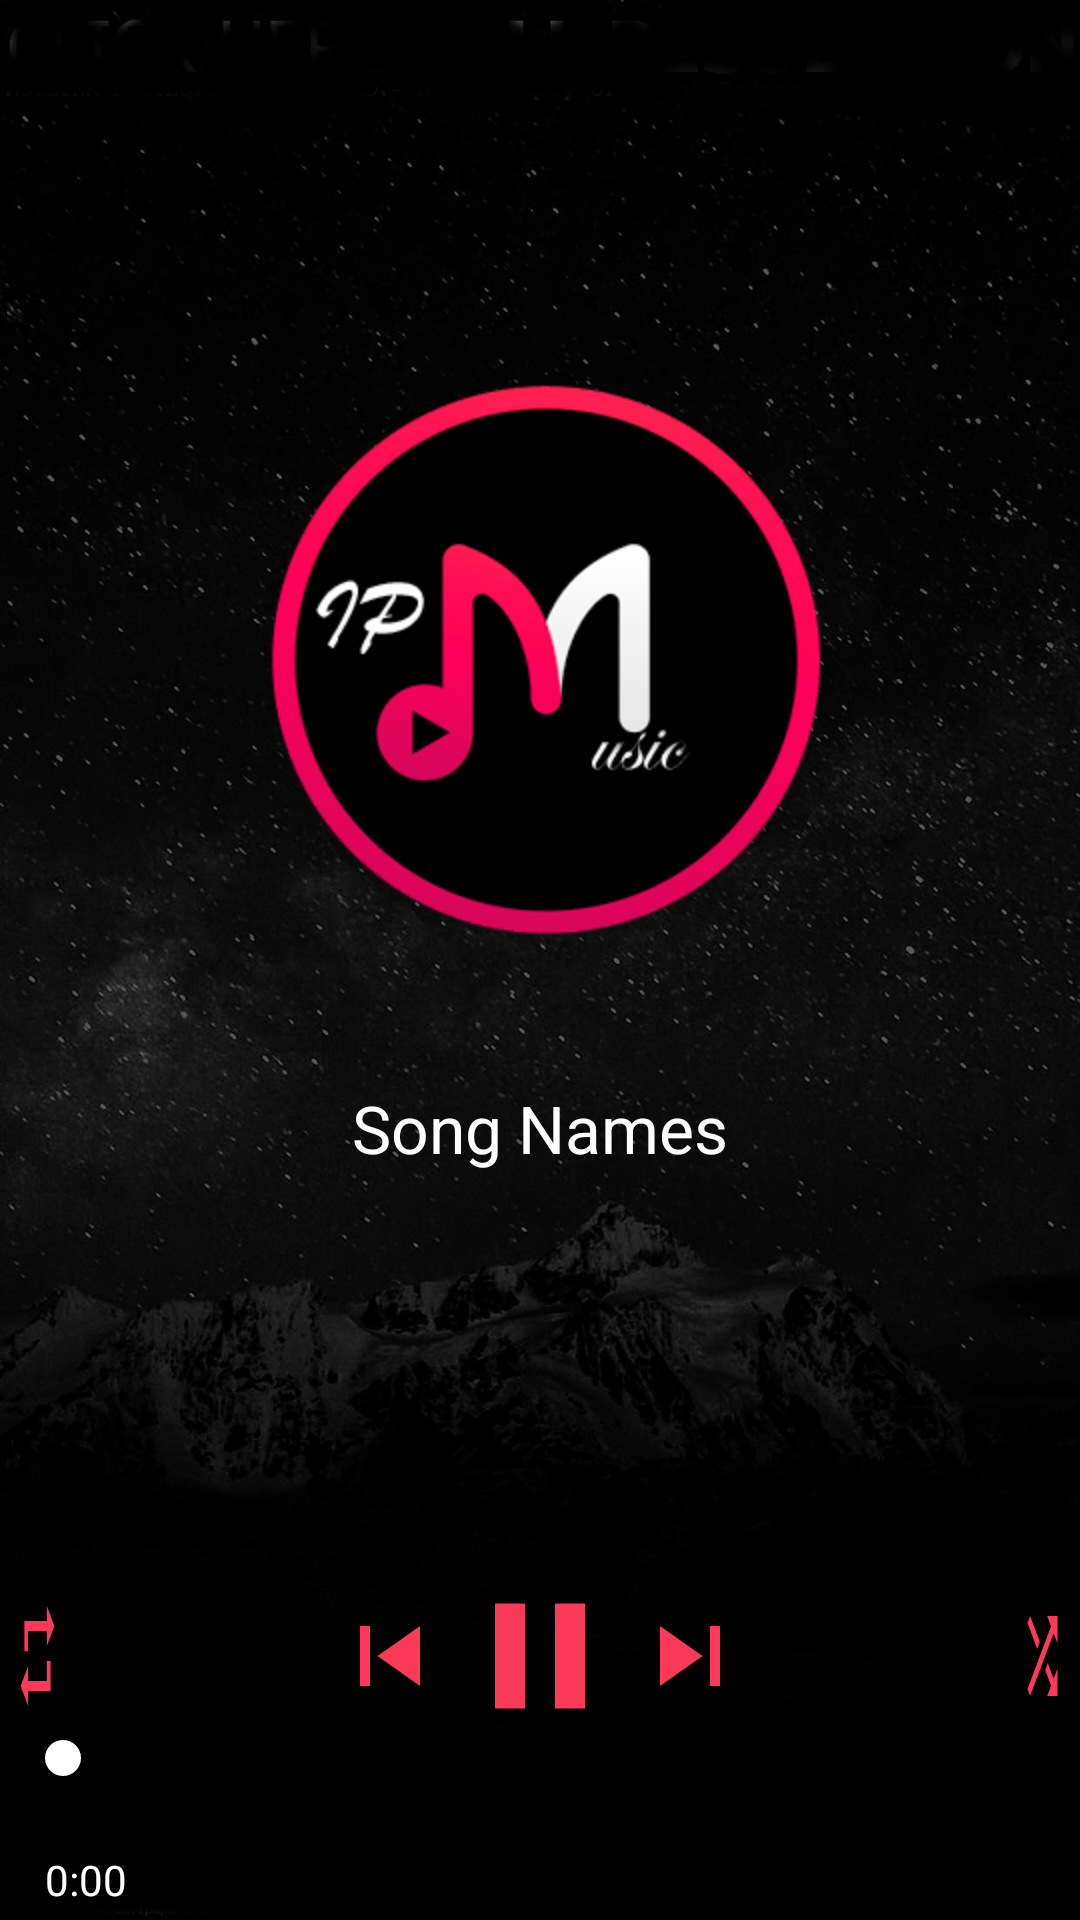

Where to tap for icons on this 1080 × 1920 app screen, as (x,y):
next: (690,1656)
pause: (540,1656)
previous: (390,1656)
repeat: (37,1656)
shuffle: (1042,1656)
